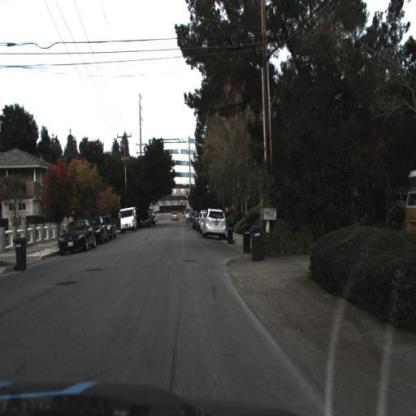biker: (186, 210, 191, 230)
car: (58, 220, 96, 259), (204, 213, 227, 238), (120, 207, 138, 236), (91, 219, 106, 245), (103, 215, 118, 241), (139, 215, 151, 229), (170, 212, 181, 222)
truck: (119, 206, 138, 235)
